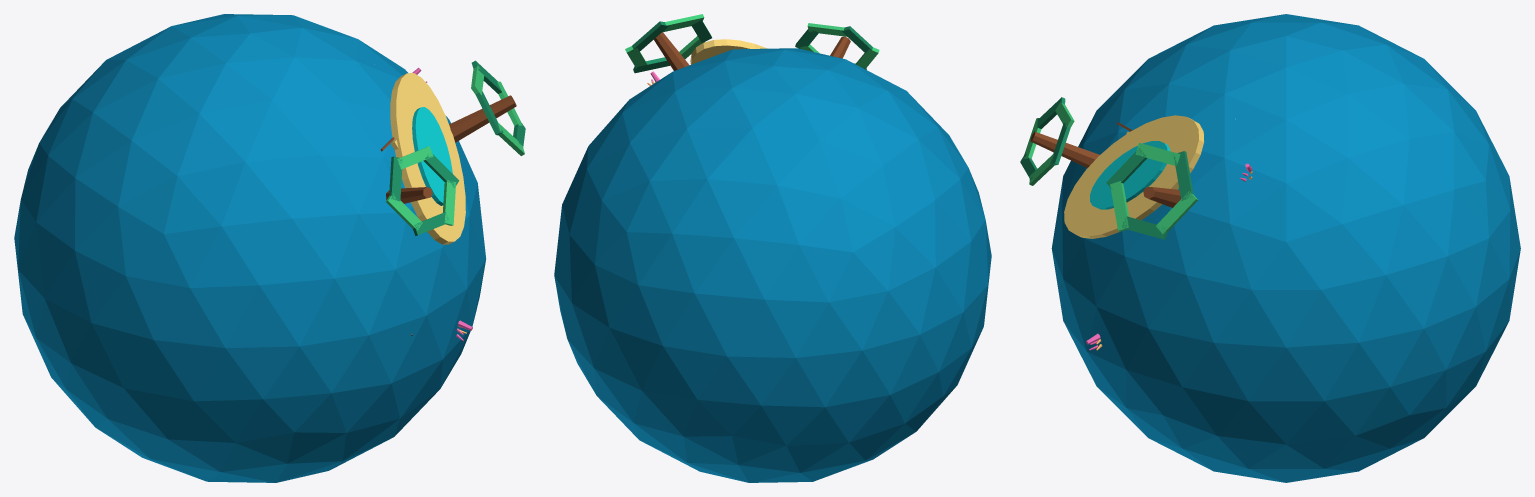
The model's file is Ocean_03.fbx.
3 views of the same model, side by side, from view 1: azimuth 30°, elevation 25°; view 2: azimuth 150°, elevation 25°; view 3: azimuth 270°, elevation 25° (orthographic). The views are drawn at different scales.
Parts seen in each view (by area): view 1: Ocean_03; view 2: Ocean_03; view 3: Ocean_03.
Part boxes in pixels (x1=…): Ocean_03: x1=14, y1=14, x2=525, y2=482; Ocean_03: x1=554, y1=14, x2=991, y2=482; Ocean_03: x1=1020, y1=14, x2=1520, y2=482.
Size of the model in its own units: 6.11 by 6 by 6.4.
1 material, 1 textured.
